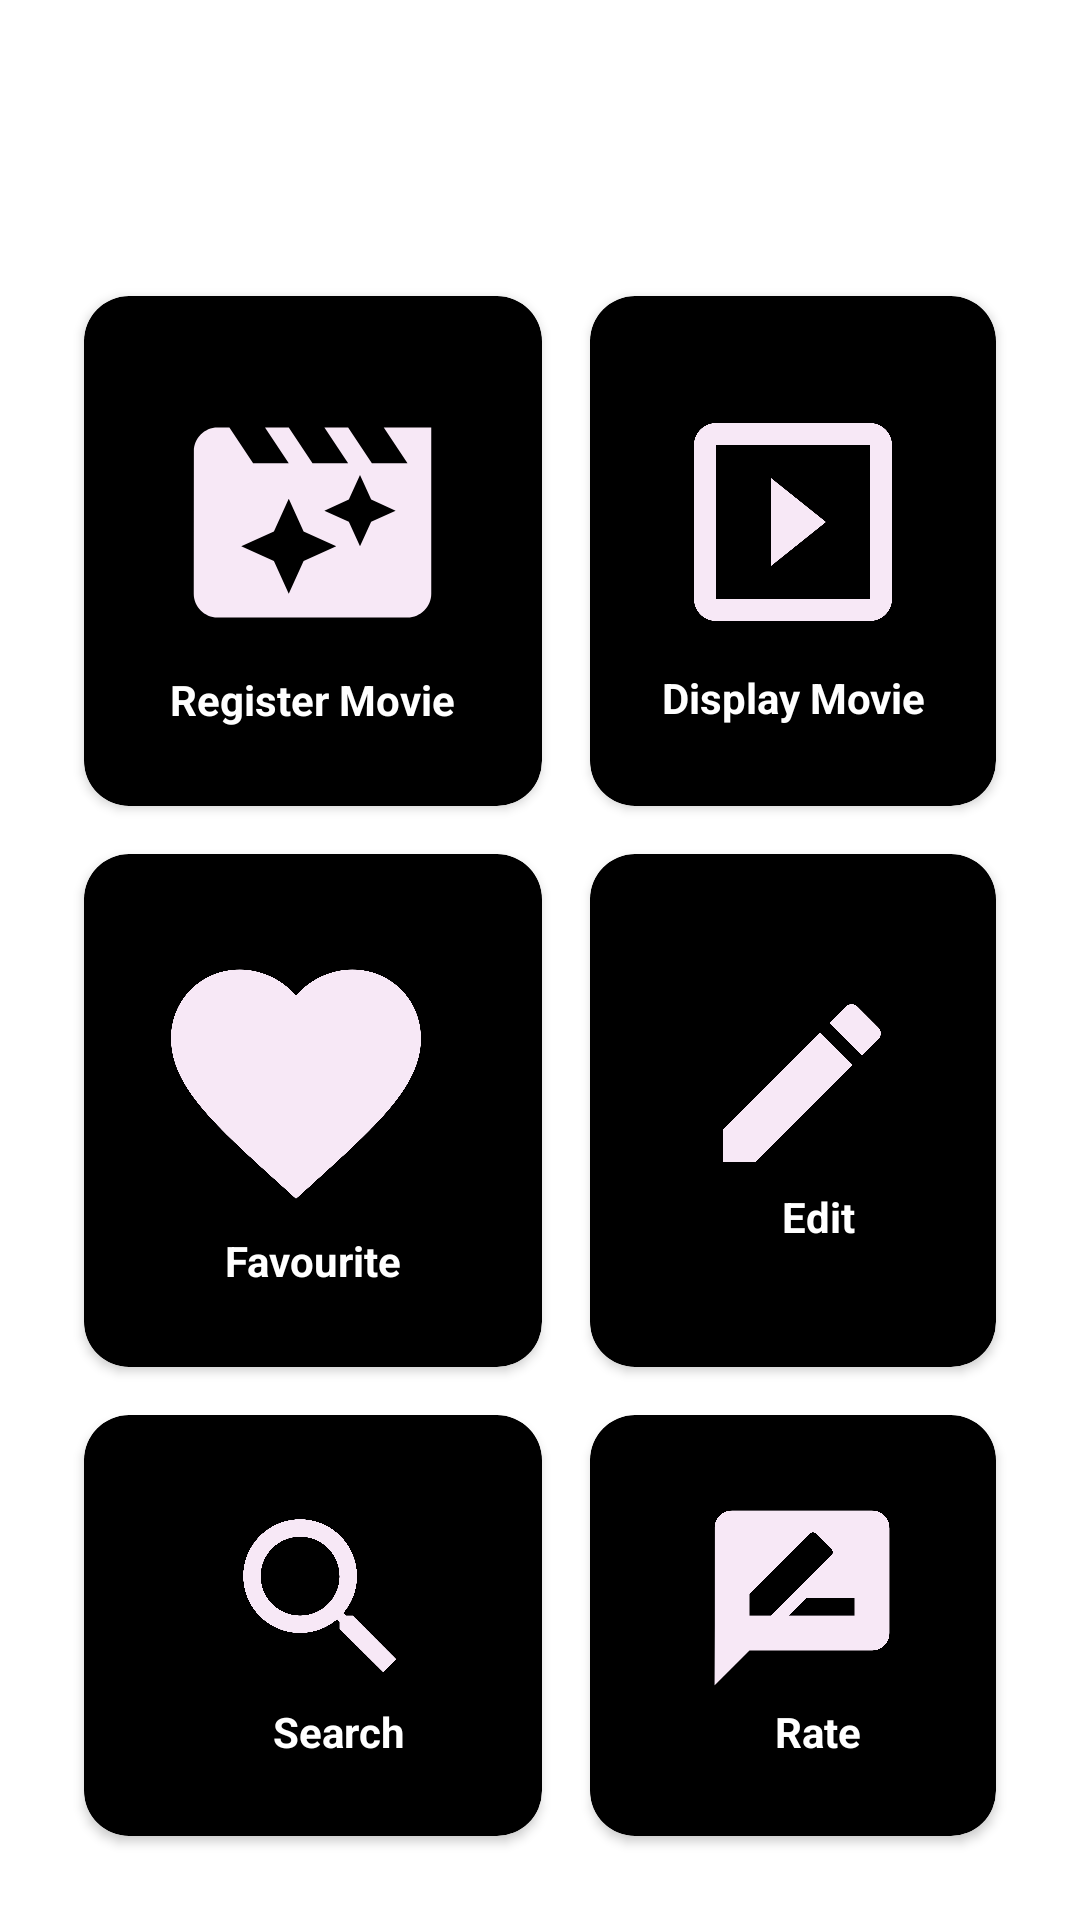

Named icons in this screenshot (1080px x 1920px) and their centers, (x=x, y=y):
movie filter: (x=312, y=522)
slideshow: (x=793, y=522)
